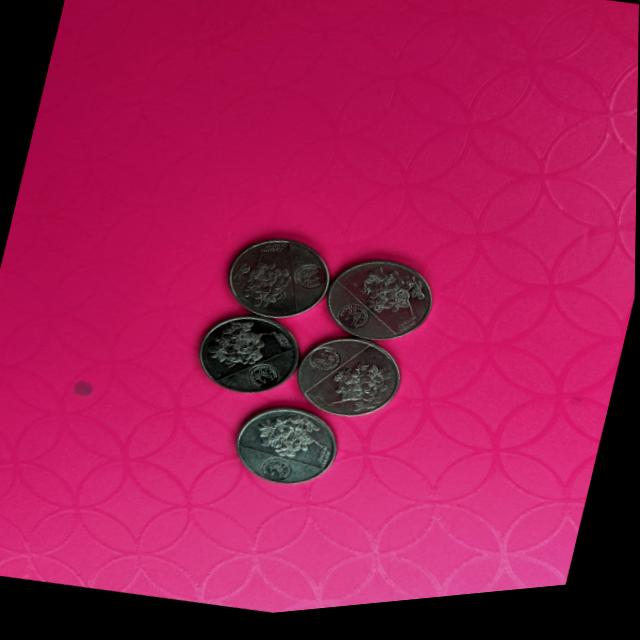1_New_Back: (248, 411, 330, 473), (213, 313, 284, 383), (329, 358, 401, 427), (357, 269, 431, 333), (230, 257, 297, 318)
